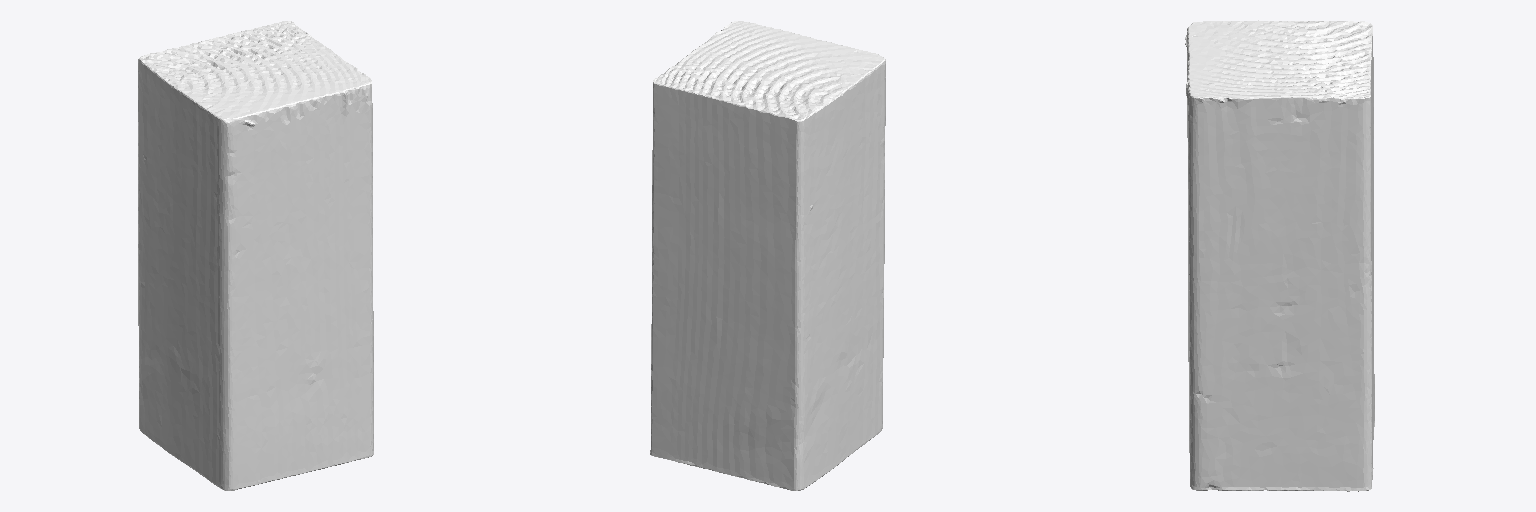
The robot description file, URDF, robot "mini_soccer_ball":
<robot name="mini_soccer_ball">
	<link name="base_link">
		<visual>
			<origin xyz="0.0059125914007175946 -0.011530561800764411 -0.06131555334762107" rpy="0.0 0.0 0.0" />
			<geometry>
				<mesh filename="053_mini_soccer_ball/google_16k/textured.obj" scale="1 1 1" />
			</geometry>
			<material name="texture">
				<color rgba="1.0 1.0 1.0 1.0" />
			</material>
		</visual>
		<collision>
			<origin xyz="0.0059125914007175946 -0.011530561800764411 -0.06131555334762107" rpy="0.0 0.0 0.0" />
			<geometry>
				<mesh filename="053_mini_soccer_ball/google_16k/textured_vhacd.obj" scale="1 1 1" />
			</geometry>
		</collision>
		<inertial>
			<mass value="0.123" />
			<inertia ixx="1e-3" ixy="0.0" ixz="0.0" iyy="1e-3" iyz="0.0" izz="1e-3" />
		</inertial>
	</link>
</robot>

--- Facts derived from the render (not from the file) ---
Views: 3 orthographic renders of the robot side by side, from view 1: azimuth 30°, elevation 25°; view 2: azimuth 150°, elevation 25°; view 3: azimuth 270°, elevation 25°.
Robot: mini_soccer_ball — 1 links, 0 joints (none); root link base_link; default pose: all joints at 0.
Links seen in each view (by area): view 1: base_link; view 2: base_link; view 3: base_link.
Link boxes in pixels (x1=…): base_link: x1=138, y1=21, x2=373, y2=490; base_link: x1=650, y1=21, x2=885, y2=490; base_link: x1=1185, y1=20, x2=1374, y2=491.
Bounding box of the posed robot: 0.0906 × 0.0899 × 0.206 m (x, y, z).
1 mesh visuals loaded from 1 distinct referenced files (1 OBJ).